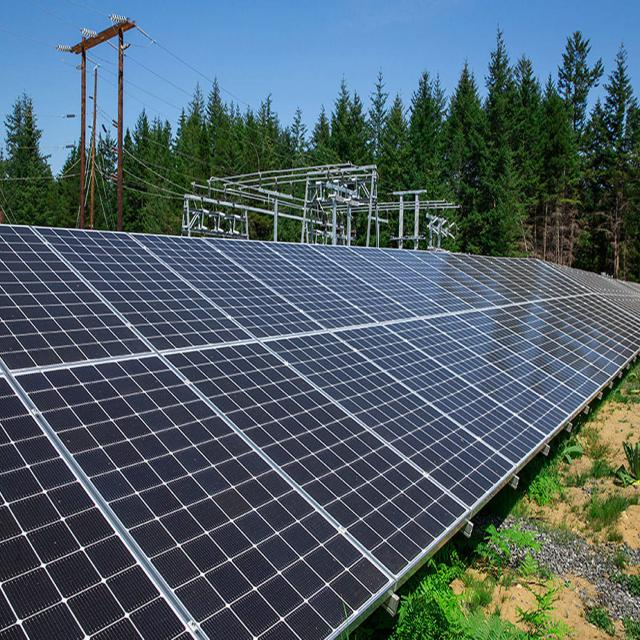clean-solar-panel: (0, 225, 640, 638)
